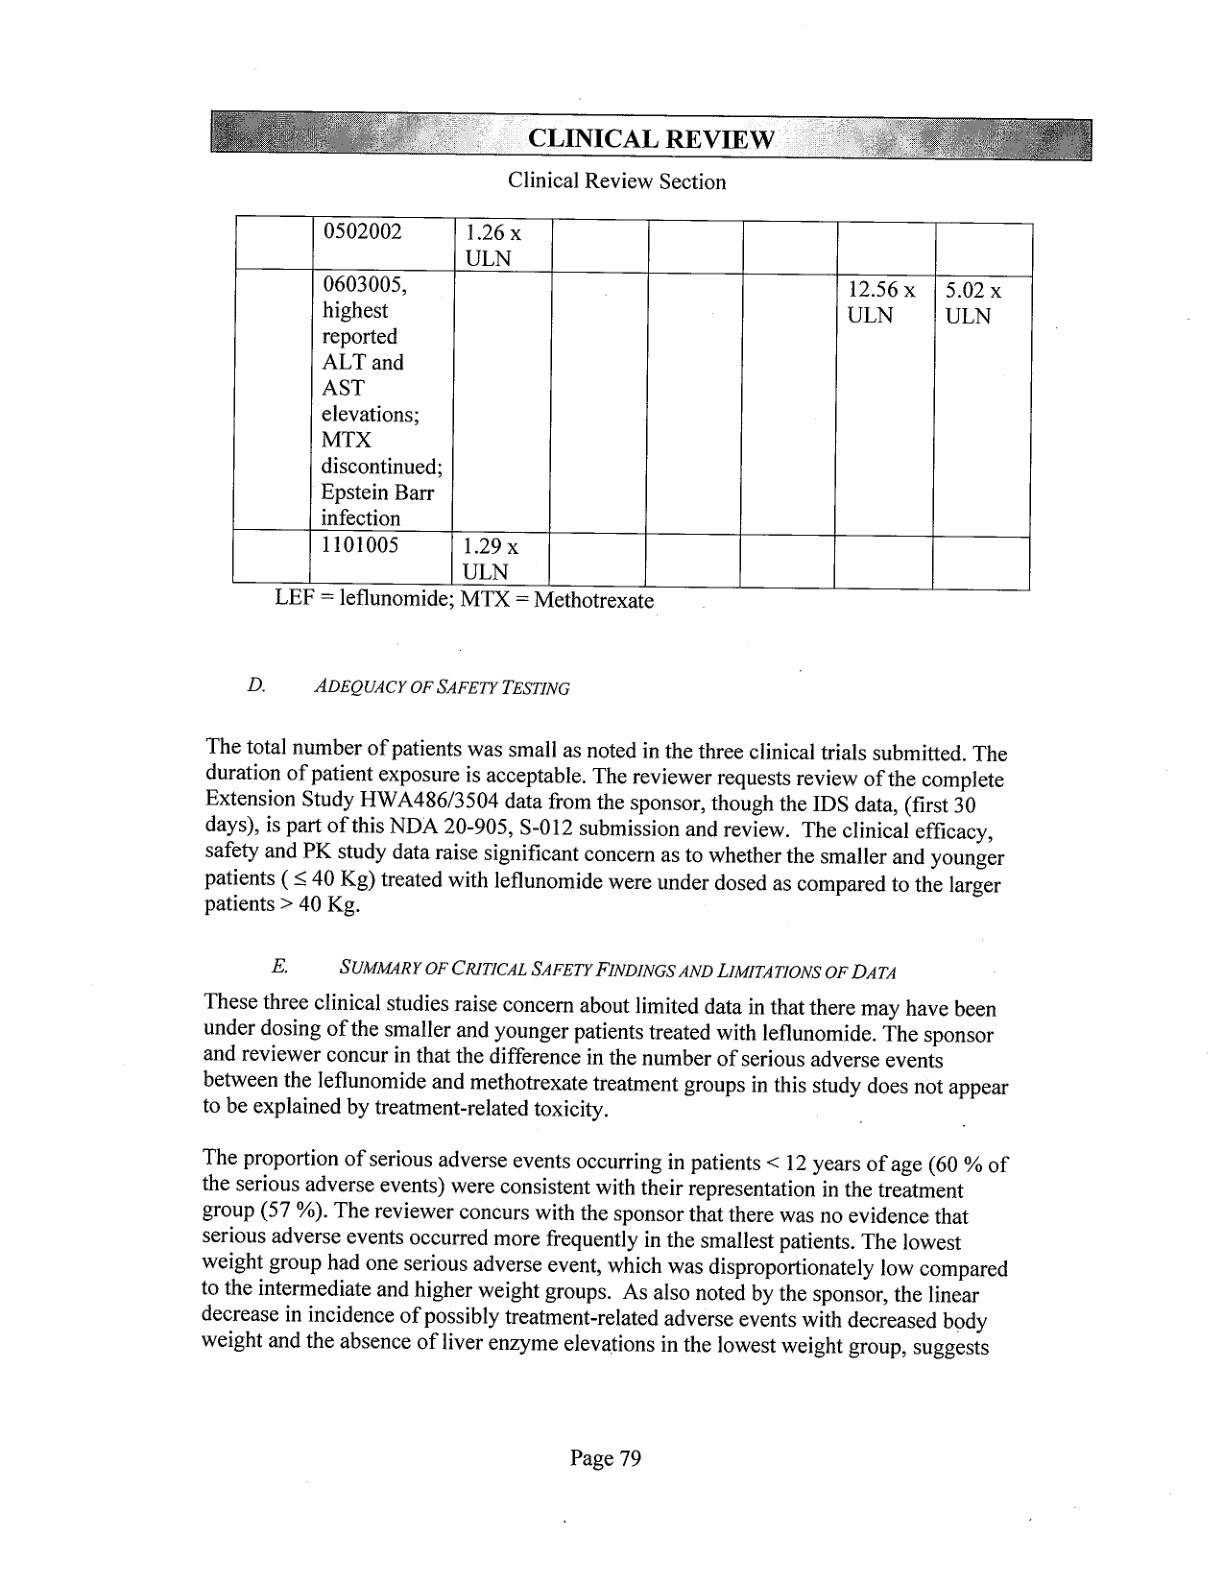full_lined: (231, 211, 1034, 589)
